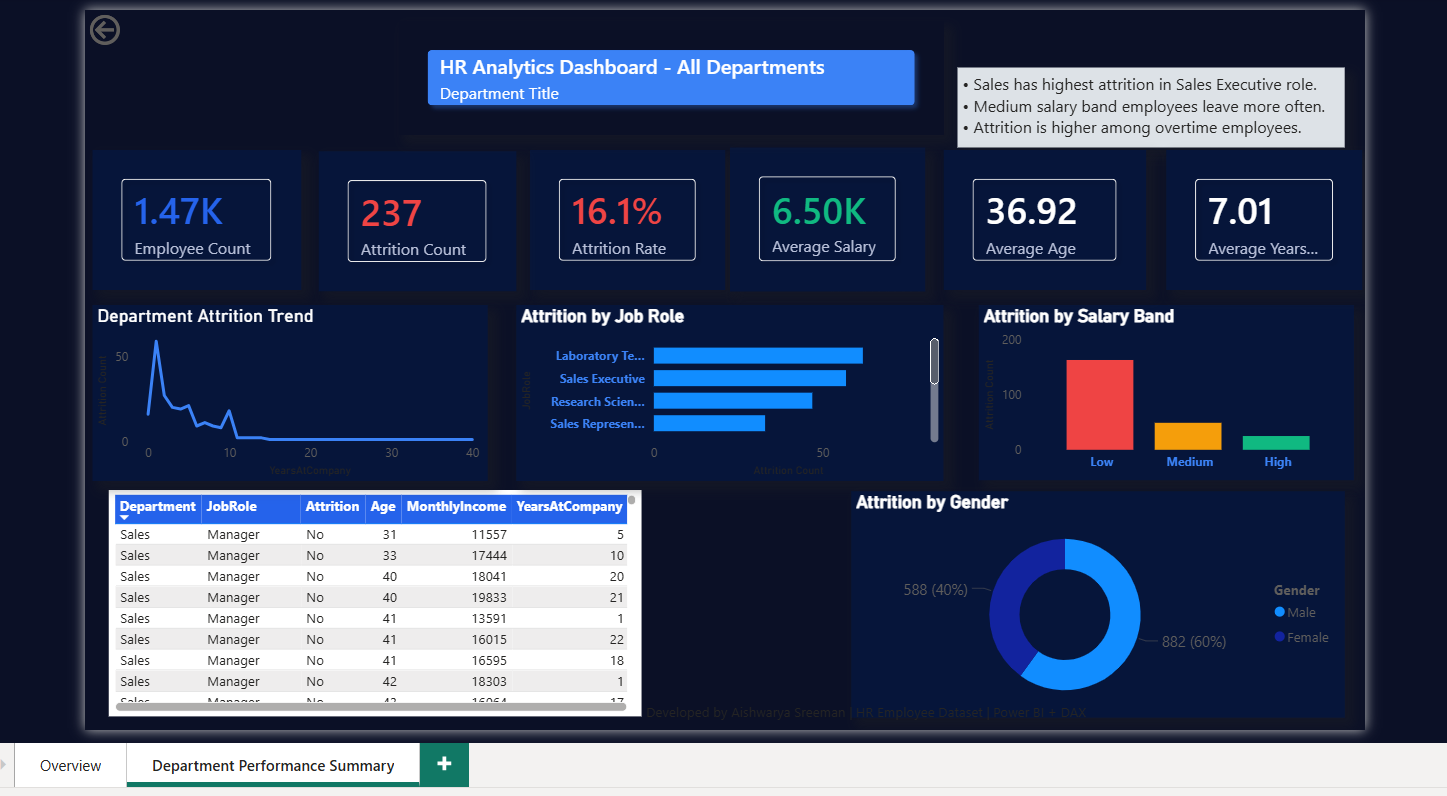

What the dashboard file says about the page in this screenshot:
{"tool":"powerbi","page":{"name":"Department Performance Summary","canvas":[1280,720],"ordinal":1},"visuals":[{"type":"tableEx","fields":{"Values":["WA_Fn-UseC_-HR-Employee-Attrition[1].Department","WA_Fn-UseC_-HR-Employee-Attrition[1].JobRole","WA_Fn-UseC_-HR-Employee-Attrition[1].Attrition","WA_Fn-UseC_-HR-Employee-Attrition[1].Age","WA_Fn-UseC_-HR-Employee-Attrition[1].MonthlyIncome","WA_Fn-UseC_-HR-Employee-Attrition[1].YearsAtCompany"]},"box":[23.8,480,532.5,226.2],"z":0},{"type":"actionButton","box":[0,0,100,40],"z":1000},{"type":"cardVisual","fields":{"Data":["CountNonNull(WA_Fn-UseC_-HR-Employee-Attrition[1].EmployeeCount)"]},"box":[7.5,140,208.8,140],"z":2000},{"type":"cardVisual","fields":{"Data":["WA_Fn-UseC_-HR-Employee-Attrition[1].Attrition Rate"]},"box":[445,140,195,140],"z":3000},{"type":"cardVisual","fields":{"Data":["WA_Fn-UseC_-HR-Employee-Attrition[1].Attrition Count"]},"box":[233.8,141.2,197.5,140],"z":4000},{"type":"cardVisual","fields":{"Data":["WA_Fn-UseC_-HR-Employee-Attrition[1].Average Salary"]},"box":[645,137.5,195,143.8],"z":5000},{"type":"lineChart","title":"Department Attrition Trend","fields":{"Category":["WA_Fn-UseC_-HR-Employee-Attrition[1].YearsAtCompany"],"Y":["WA_Fn-UseC_-HR-Employee-Attrition[1].Attrition Count"]},"box":[7.5,295,395,176.2],"z":6000},{"type":"clusteredBarChart","title":"Attrition  by Job Role","fields":{"Category":["WA_Fn-UseC_-HR-Employee-Attrition[1].JobRole"],"Y":["WA_Fn-UseC_-HR-Employee-Attrition[1].Attrition Count"]},"box":[431.2,295,427.5,176.2],"z":7000},{"type":"columnChart","title":"Attrition by Salary Band","fields":{"Category":["WA_Fn-UseC_-HR-Employee-Attrition[1].Salary Band"],"Y":["WA_Fn-UseC_-HR-Employee-Attrition[1].Attrition Count"]},"box":[893.8,295,375,175],"z":8000},{"type":"actionButton","box":[0,0,100,39.5],"z":9000},{"type":"cardVisual","fields":{"Data":["WA_Fn-UseC_-HR-Employee-Attrition[1].Department Title"]},"box":[313.8,11.2,545,113.8],"z":10000},{"type":"textbox","box":[872.5,57.5,387.5,80],"z":11000},{"type":"donutChart","title":"Attrition by Gender","fields":{"Y":["CountNonNull(WA_Fn-UseC_-HR-Employee-Attrition[1].Attrition)"],"Category":["WA_Fn-UseC_-HR-Employee-Attrition[1].Gender"]},"box":[766.2,481.2,493.8,226.2],"z":12000},{"type":"cardVisual","fields":{"Data":["WA_Fn-UseC_-HR-Employee-Attrition[1].Average Age"]},"box":[858.8,140,202.5,140],"z":13000},{"type":"cardVisual","fields":{"Data":["WA_Fn-UseC_-HR-Employee-Attrition[1].Average Years at Company"]},"box":[1081.2,140,196.2,140],"z":14000},{"type":"textbox","box":[556.2,687.5,457.5,32.5],"z":15000}]}

Visuals, with their boxes on the page's 1280x720 design canvas (x1, y1, x2, y2). These are canvas units, not pixel positions in the 1447x796 screenshot, which may show the page scaled, cropped or inside an application window:
tableEx - WA_Fn-UseC_-HR-Employee-Attrition[1].Department x WA_Fn-UseC_-HR-Employee-Attrition[1].JobRole: 24 480 556 706
actionButton: 0 0 100 40
cardVisual - CountNonNull(WA_Fn-UseC_-HR-Employee-Attrition[1].EmployeeCount): 8 140 216 280
cardVisual - WA_Fn-UseC_-HR-Employee-Attrition[1].Attrition Rate: 445 140 640 280
cardVisual - WA_Fn-UseC_-HR-Employee-Attrition[1].Attrition Count: 234 141 431 281
cardVisual - WA_Fn-UseC_-HR-Employee-Attrition[1].Average Salary: 645 138 840 281
"Department Attrition Trend" lineChart: 8 295 402 471
"Attrition  by Job Role" clusteredBarChart: 431 295 859 471
"Attrition by Salary Band" columnChart: 894 295 1269 470
actionButton: 0 0 100 40
cardVisual - WA_Fn-UseC_-HR-Employee-Attrition[1].Department Title: 314 11 859 125
textbox: 872 58 1260 138
"Attrition by Gender" donutChart: 766 481 1260 707
cardVisual - WA_Fn-UseC_-HR-Employee-Attrition[1].Average Age: 859 140 1061 280
cardVisual - WA_Fn-UseC_-HR-Employee-Attrition[1].Average Years at Company: 1081 140 1277 280
textbox: 556 688 1014 720
